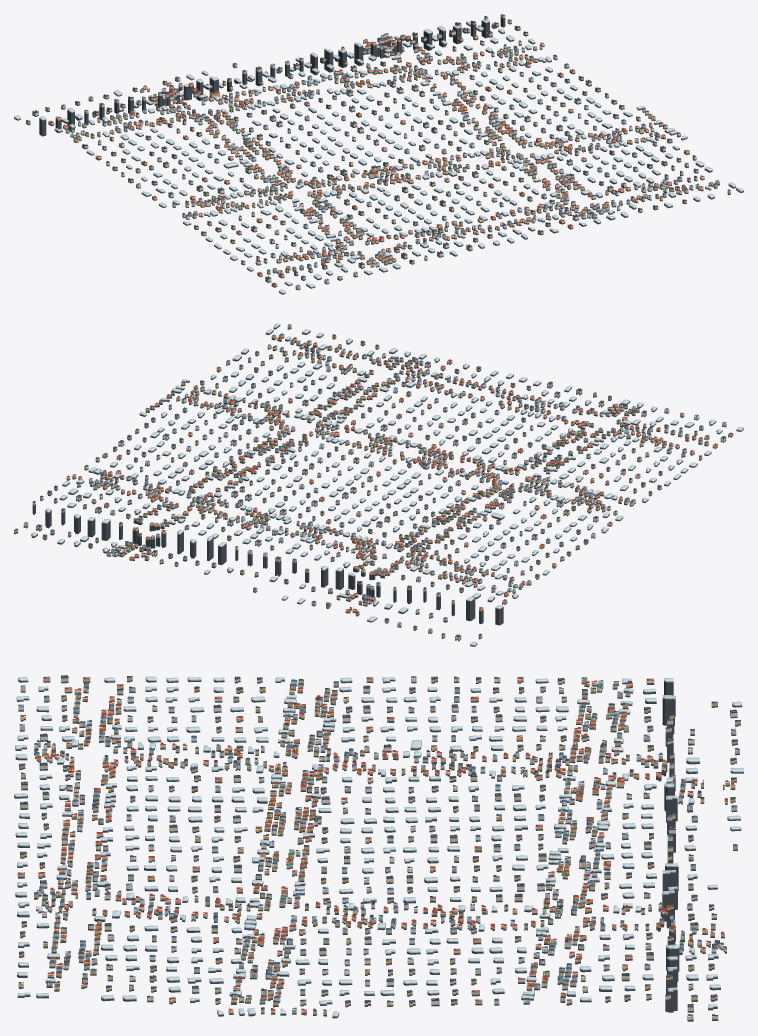
Rendered from osm_buildings_T_W02_S02.glb.
3 renders of one model, top to bottom at view 1: azimuth 30°, elevation 25°; view 2: azimuth 150°, elevation 25°; view 3: azimuth 270°, elevation 25°, orthographic. The views are drawn at different scales.
Parts seen in each view (by area): view 1: OSM_T_W02_S02_foundation, OSM_T_W02_S02_greenhouse_blend, OSM_T_W02_S02_wall_cream_stucco, OSM_T_W02_S02_wall_french_ochre, OSM_T_W02_S02_roof_mansard_slate, OSM_T_W02_S02_roof_terracotta, OSM_T_W02_S02_wall_warm_white, OSM_T_W02_S02_roof_alpine_blue, OSM_T_W02_S02_wall_pastel_sand, OSM_T_W02_S02_roof_mansard_deck, OSM_T_W02_S02_balcony_railing; view 2: OSM_T_W02_S02_foundation, OSM_T_W02_S02_greenhouse_blend, OSM_T_W02_S02_wall_cream_stucco, OSM_T_W02_S02_wall_french_ochre, OSM_T_W02_S02_roof_mansard_slate, OSM_T_W02_S02_roof_terracotta, OSM_T_W02_S02_wall_warm_white, OSM_T_W02_S02_roof_alpine_blue, OSM_T_W02_S02_wall_pastel_sand, OSM_T_W02_S02_roof_mansard_deck; view 3: OSM_T_W02_S02_foundation, OSM_T_W02_S02_greenhouse_blend, OSM_T_W02_S02_wall_cream_stucco, OSM_T_W02_S02_wall_french_ochre, OSM_T_W02_S02_roof_mansard_slate, OSM_T_W02_S02_roof_terracotta, OSM_T_W02_S02_wall_warm_white, OSM_T_W02_S02_roof_alpine_blue, OSM_T_W02_S02_wall_pastel_sand, OSM_T_W02_S02_roof_mansard_deck, OSM_T_W02_S02_balcony_railing.
Boxes of the visible parts, x1,y1,x2,y2 form: OSM_T_W02_S02_foundation: (14, 17, 743, 294); OSM_T_W02_S02_greenhouse_blend: (14, 19, 743, 293); OSM_T_W02_S02_wall_cream_stucco: (73, 15, 704, 289); OSM_T_W02_S02_wall_french_ochre: (26, 22, 730, 275); OSM_T_W02_S02_roof_mansard_slate: (26, 14, 730, 279); OSM_T_W02_S02_roof_terracotta: (49, 35, 713, 284); OSM_T_W02_S02_wall_warm_white: (32, 33, 696, 283); OSM_T_W02_S02_roof_alpine_blue: (61, 23, 719, 286); OSM_T_W02_S02_wall_pastel_sand: (61, 29, 693, 286); OSM_T_W02_S02_roof_mansard_deck: (33, 20, 697, 278); OSM_T_W02_S02_balcony_railing: (33, 25, 709, 285); OSM_T_W02_S02_foundation: (14, 325, 743, 646); OSM_T_W02_S02_greenhouse_blend: (31, 323, 743, 645); OSM_T_W02_S02_wall_cream_stucco: (14, 338, 726, 622); OSM_T_W02_S02_wall_french_ochre: (42, 325, 708, 638); OSM_T_W02_S02_roof_mansard_slate: (14, 324, 725, 637); OSM_T_W02_S02_roof_terracotta: (67, 336, 732, 610); OSM_T_W02_S02_wall_warm_white: (84, 341, 699, 640); OSM_T_W02_S02_roof_alpine_blue: (24, 333, 726, 629); OSM_T_W02_S02_wall_pastel_sand: (68, 341, 733, 632); OSM_T_W02_S02_roof_mansard_deck: (37, 334, 725, 636); OSM_T_W02_S02_foundation: (14, 678, 743, 1021); OSM_T_W02_S02_greenhouse_blend: (14, 676, 743, 1016); OSM_T_W02_S02_wall_cream_stucco: (19, 677, 737, 1019); OSM_T_W02_S02_wall_french_ochre: (18, 677, 740, 1014); OSM_T_W02_S02_roof_mansard_slate: (18, 675, 740, 1015); OSM_T_W02_S02_roof_terracotta: (18, 676, 735, 1010); OSM_T_W02_S02_wall_warm_white: (18, 677, 737, 1004); OSM_T_W02_S02_roof_alpine_blue: (18, 676, 739, 1015); OSM_T_W02_S02_wall_pastel_sand: (17, 677, 739, 1012); OSM_T_W02_S02_roof_mansard_deck: (19, 675, 737, 1005); OSM_T_W02_S02_balcony_railing: (42, 678, 695, 1012).
Size of the model in its own units: 1950 by 123 by 1893.
